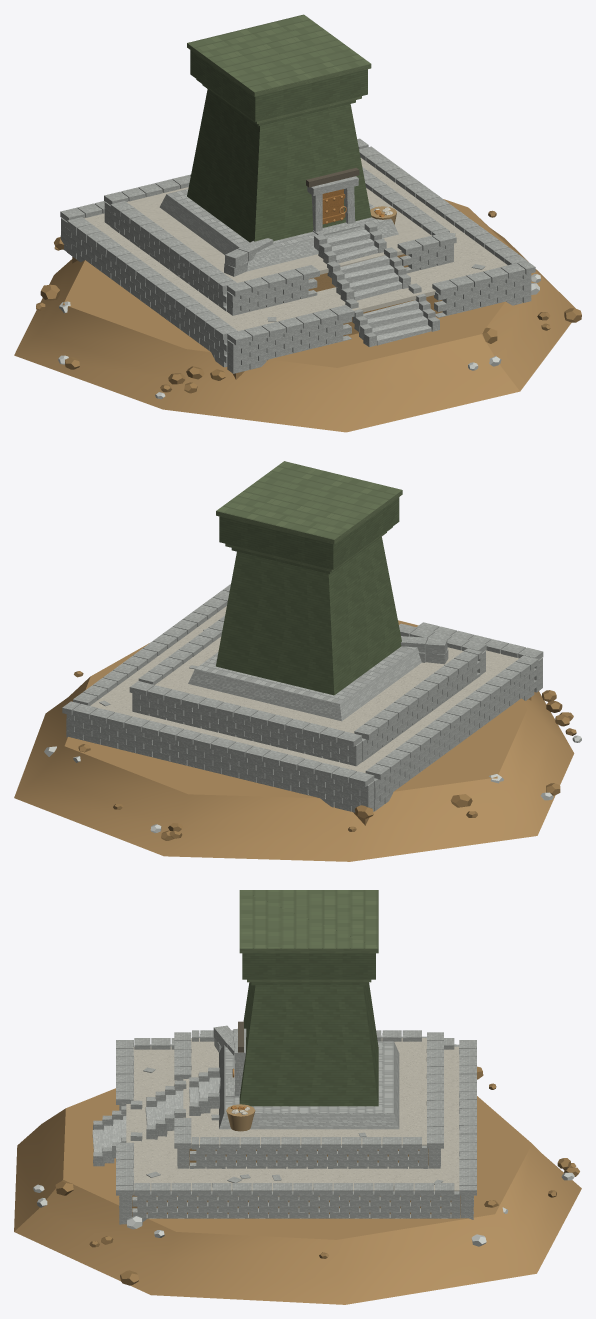
Rendered from lin-6-built.glb.
3 renders of one model, top to bottom at view 1: azimuth 30°, elevation 25°; view 2: azimuth 150°, elevation 25°; view 3: azimuth 270°, elevation 25°, orthographic. The views are drawn at different scales.
Size of the model in its own units: 45.75 by 22.99 by 44.86.
26 materials, 19 textured.
